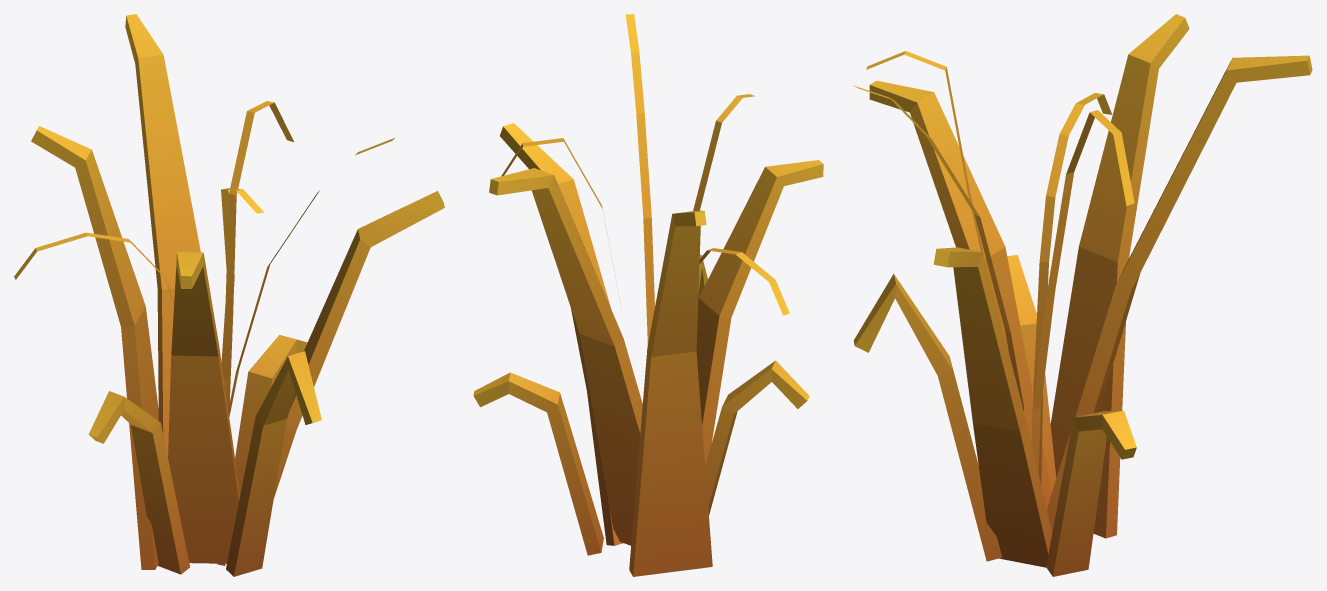
Rendered from AutumnGrass2.fbx.
3 renders of one model, left to right at view 1: azimuth 30°, elevation 25°; view 2: azimuth 150°, elevation 25°; view 3: azimuth 270°, elevation 25°, orthographic. The views are drawn at different scales.
Parts seen in each view (by area): view 1: AutumnGrass2; view 2: AutumnGrass2; view 3: AutumnGrass2.
Part boxes in pixels (<box>): AutumnGrass2: <box>14,14,444,576</box>; AutumnGrass2: <box>473,14,823,576</box>; AutumnGrass2: <box>853,14,1312,576</box>.
Size of the model in its own units: 146 by 179 by 142.
